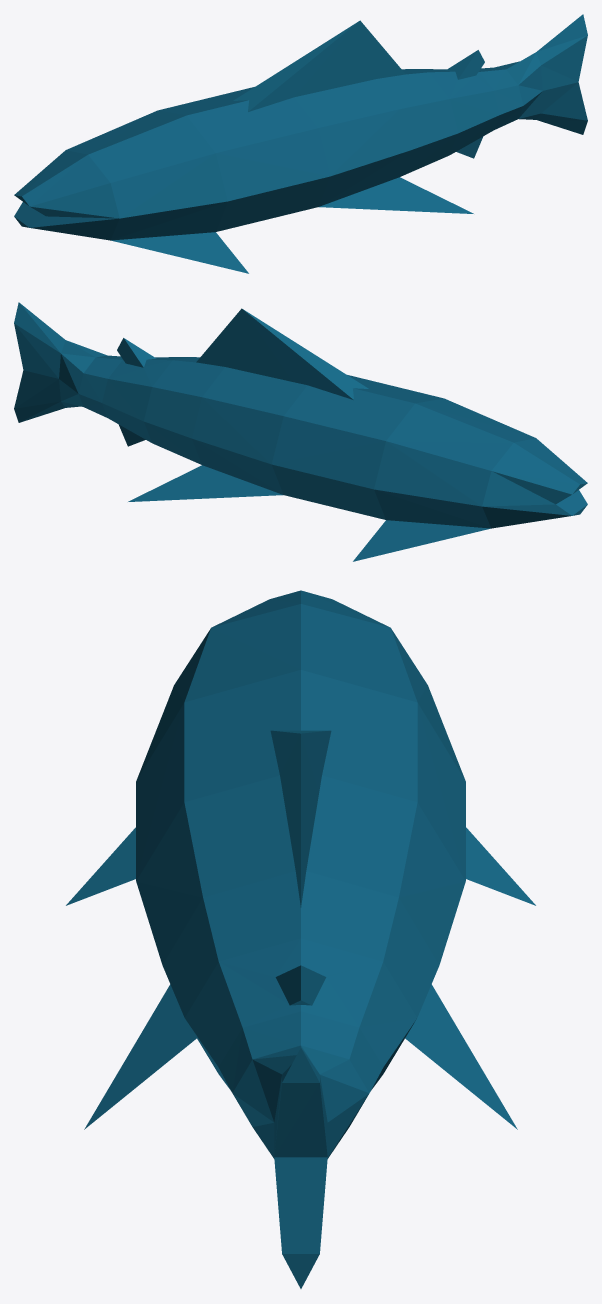
Rendered from fish-sky.glb.
3 renders of one model, top to bottom at view 1: azimuth 30°, elevation 25°; view 2: azimuth 150°, elevation 25°; view 3: azimuth 270°, elevation 25°, orthographic. The views are drawn at different scales.
Parts seen in each view (by area): view 1: fish-sky; view 2: fish-sky; view 3: fish-sky.
Boxes of the visible parts, <box> form: fish-sky: <box>14,14,587,273</box>; fish-sky: <box>14,302,587,561</box>; fish-sky: <box>66,590,535,1288</box>.
Bounding box in the file's own units: 0.66 × 0.19 × 0.24.
